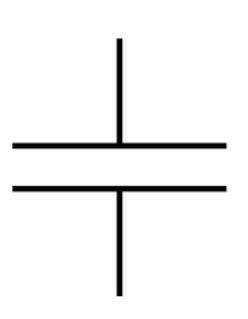Capacitor: (4, 90, 238, 238)
